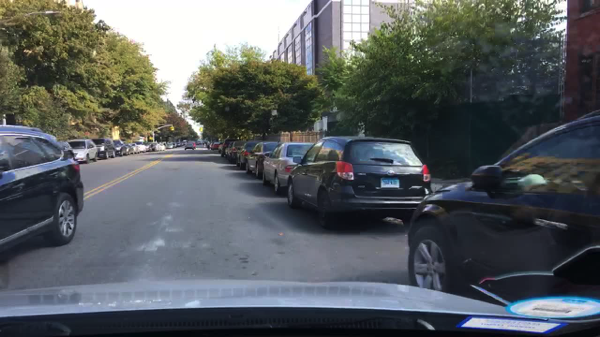car: (403, 106, 599, 307), (285, 134, 433, 232), (0, 122, 87, 260), (260, 142, 315, 197), (245, 139, 279, 179), (67, 138, 99, 164), (239, 139, 260, 171), (92, 138, 118, 160), (220, 137, 240, 158), (229, 139, 245, 164), (224, 141, 236, 158), (132, 141, 147, 153), (128, 141, 140, 153), (216, 141, 227, 154), (149, 141, 160, 152), (148, 143, 158, 153), (211, 142, 221, 150), (188, 140, 196, 149), (166, 142, 175, 150), (144, 142, 150, 152), (160, 143, 167, 151), (206, 141, 212, 149), (209, 142, 215, 150), (172, 142, 178, 149), (159, 141, 167, 146), (182, 140, 188, 145), (180, 141, 185, 147), (176, 141, 181, 147), (197, 140, 202, 146), (194, 141, 200, 146), (202, 140, 208, 145)
traffic light: (199, 127, 203, 132), (169, 126, 172, 132), (171, 126, 174, 132)
traffic sign: (272, 109, 278, 117), (149, 136, 153, 140)
